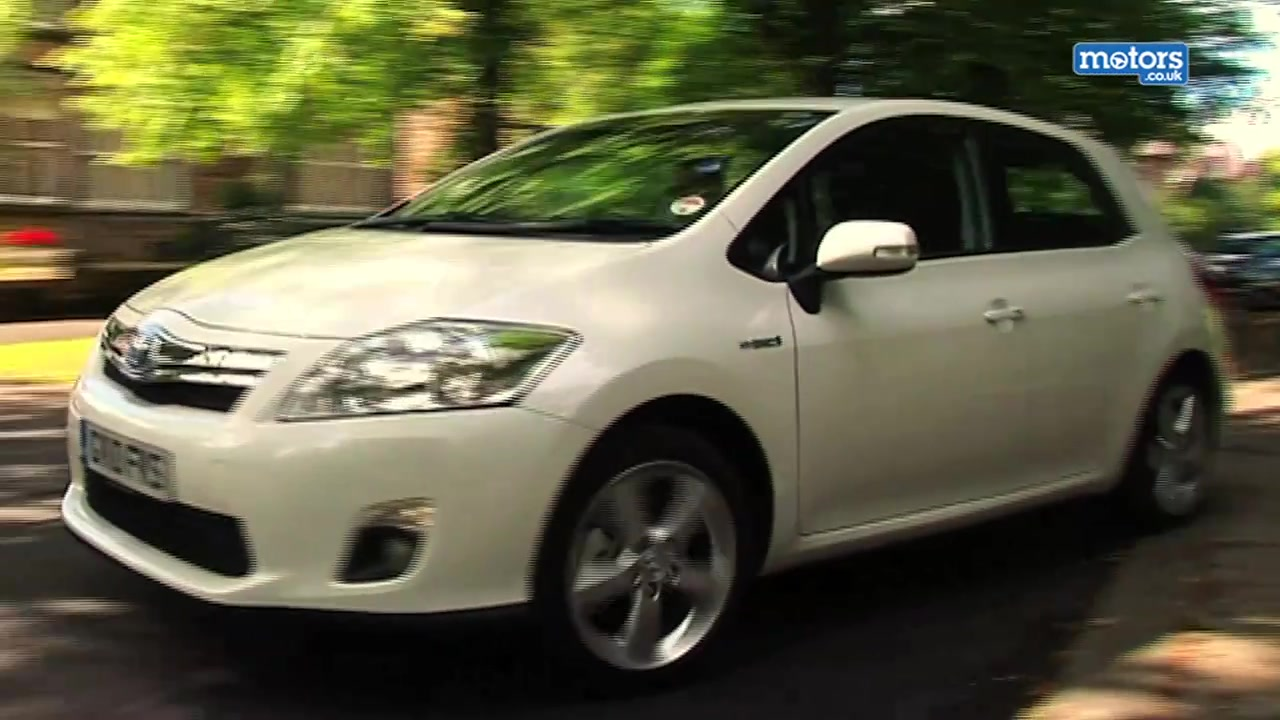car: (61, 95, 1230, 692)
